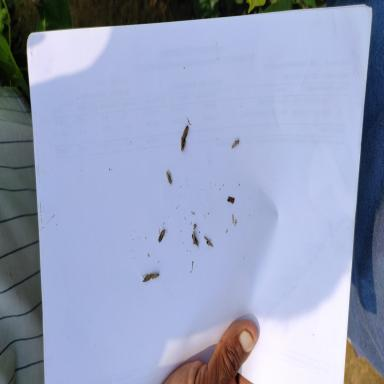pbw: (180, 125, 188, 152), (158, 222, 167, 242), (191, 225, 197, 247), (191, 234, 199, 250), (140, 273, 151, 283), (166, 169, 172, 187), (232, 140, 240, 148), (151, 272, 161, 278), (206, 241, 213, 247), (204, 236, 210, 243)
